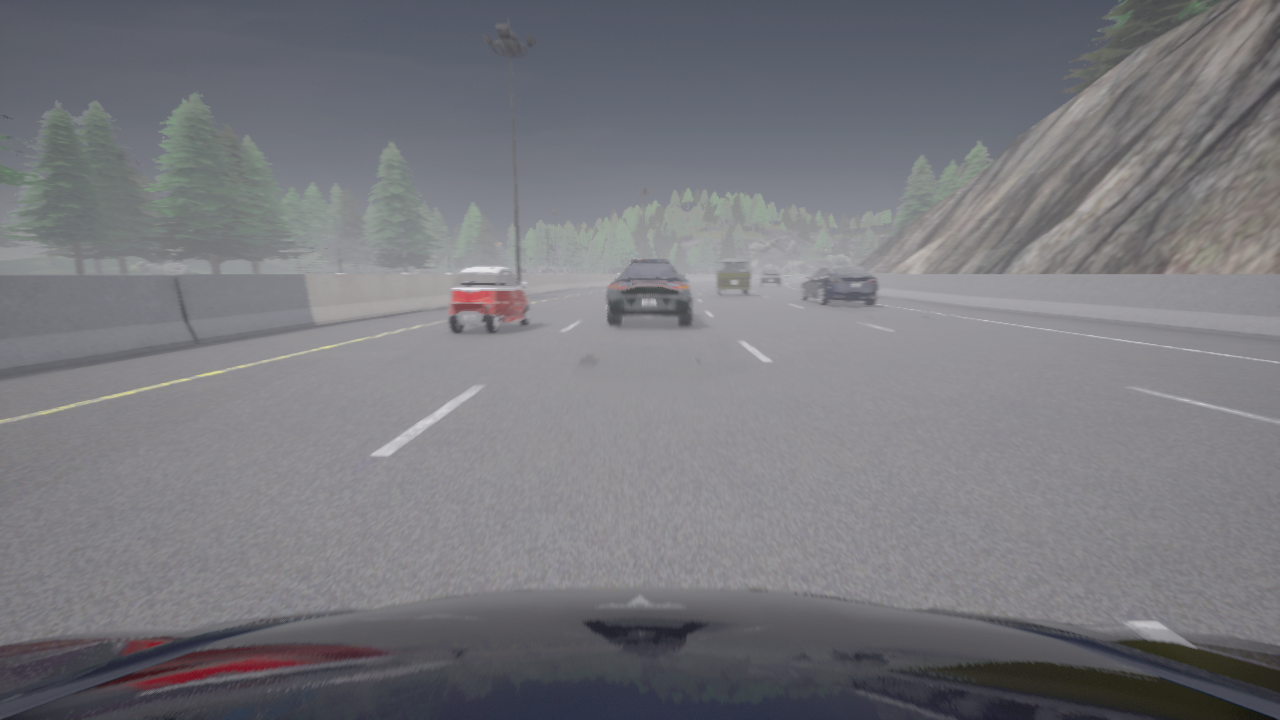cyclist: (0, 588, 1279, 719), (606, 260, 691, 325), (448, 266, 529, 334), (800, 266, 877, 306), (715, 259, 750, 296), (758, 270, 781, 286)
